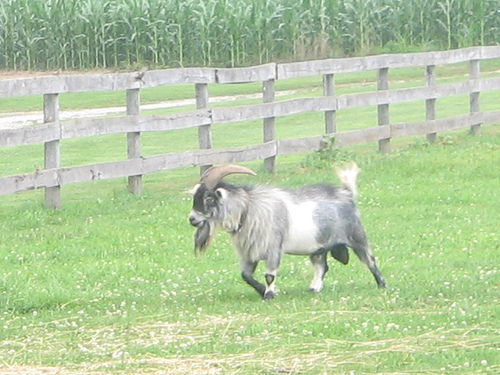goat: (188, 163, 387, 299)
